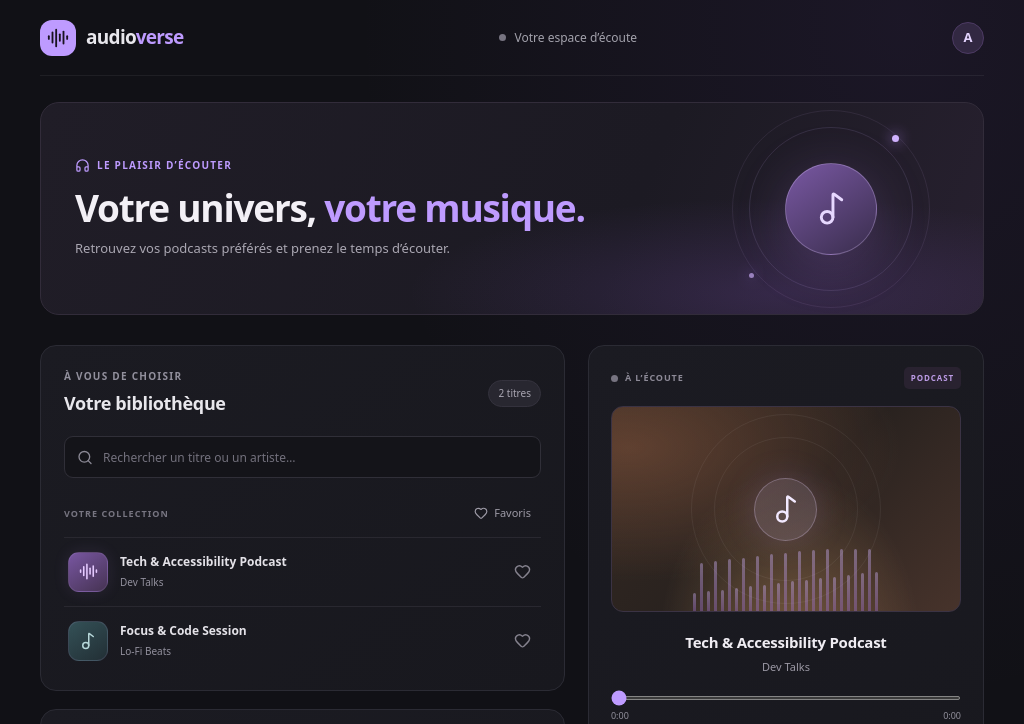
Test: AudioVerse › filters the library to favorited tracks
Expected: the text "Focus & Code Session" is shown, [120,622,247,640]
Click the button "Favoris" at (503, 513), box [464,498,541,528]
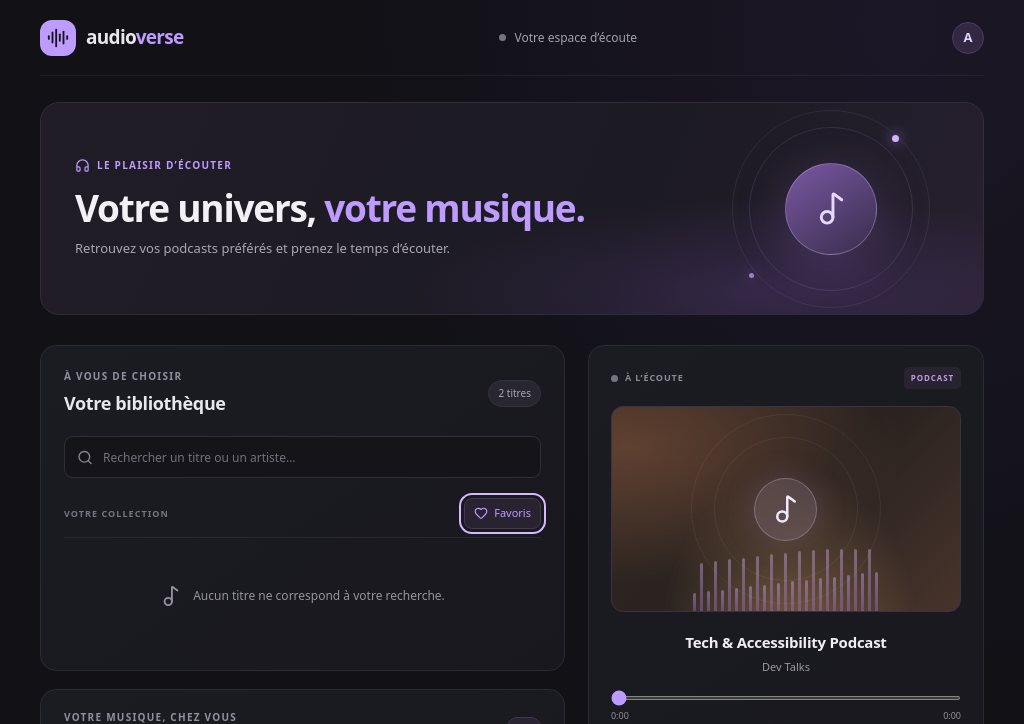
Expected: the text "Aucun titre ne correspond à votre recherche." is shown, [193,587,445,605]
Click the button "Favoris" at (503, 513), box [464,498,541,528]
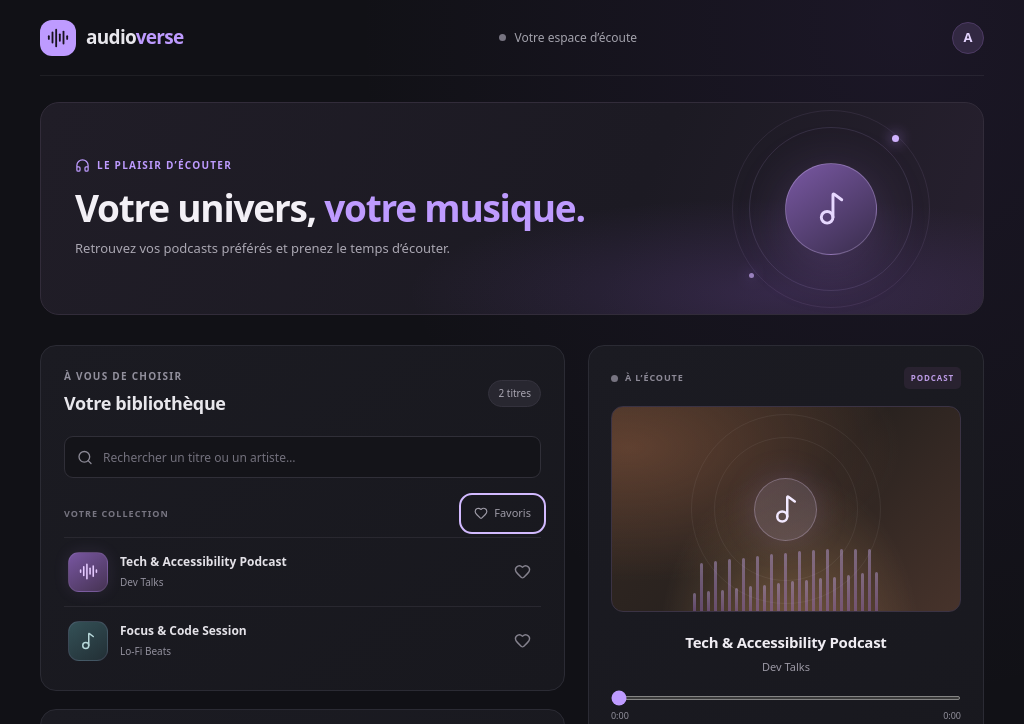
Click the button named "ajouter tech & accessibility podcast aux favoris" at (523, 572), box [507,556,539,588]
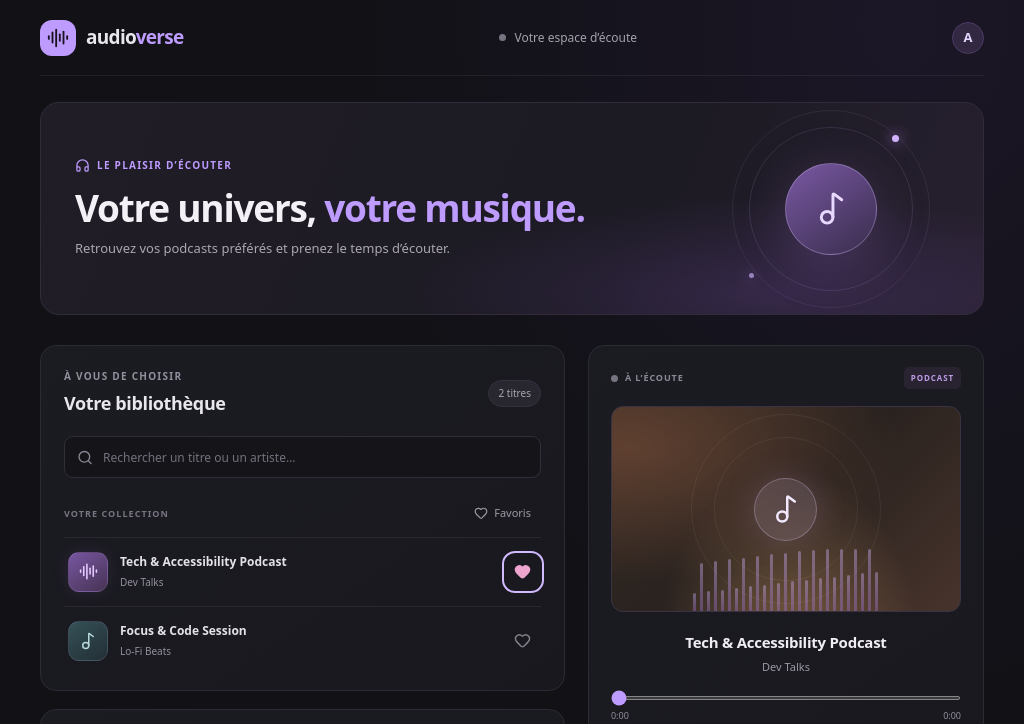
Expected: the button named "retirer tech & accessibility podcast des favoris" is shown, [507,556,539,588]
Click the button "Favoris" at (503, 513), box [464,498,541,528]
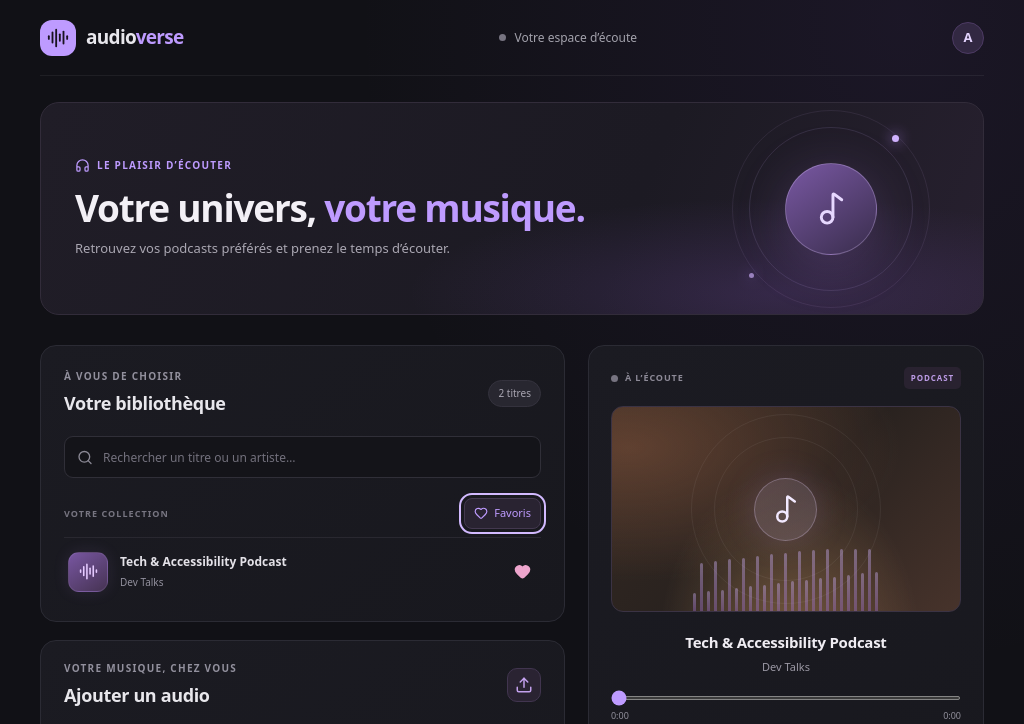
Expected: the text "Tech & Accessibility Podcast" is shown 2 times, [120,553,287,571]; [685,632,887,652]
Expected: the button "Focus & Code Session" is gone
